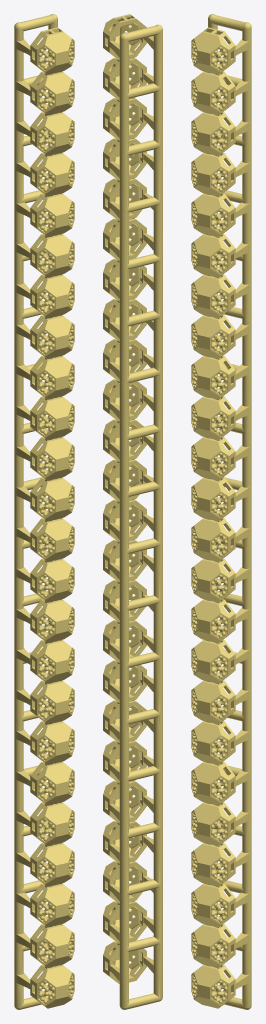
File: yzn5-92_a.glb
3 renders of one model, left to right at view 1: azimuth 30°, elevation 25°; view 2: azimuth 210°, elevation 25°; view 3: azimuth 330°, elevation 25°, orthographic.
Parts seen in each view (by area): view 1: Renderer Node; view 2: Renderer Node; view 3: Renderer Node.
Part boxes in pixels (x1,y1,x2,y2): Renderer Node: [14, 14, 74, 1009]; Renderer Node: [103, 14, 162, 1009]; Renderer Node: [191, 14, 251, 1009].
Size of the model in its own units: 7.71 by 172 by 8.98.
